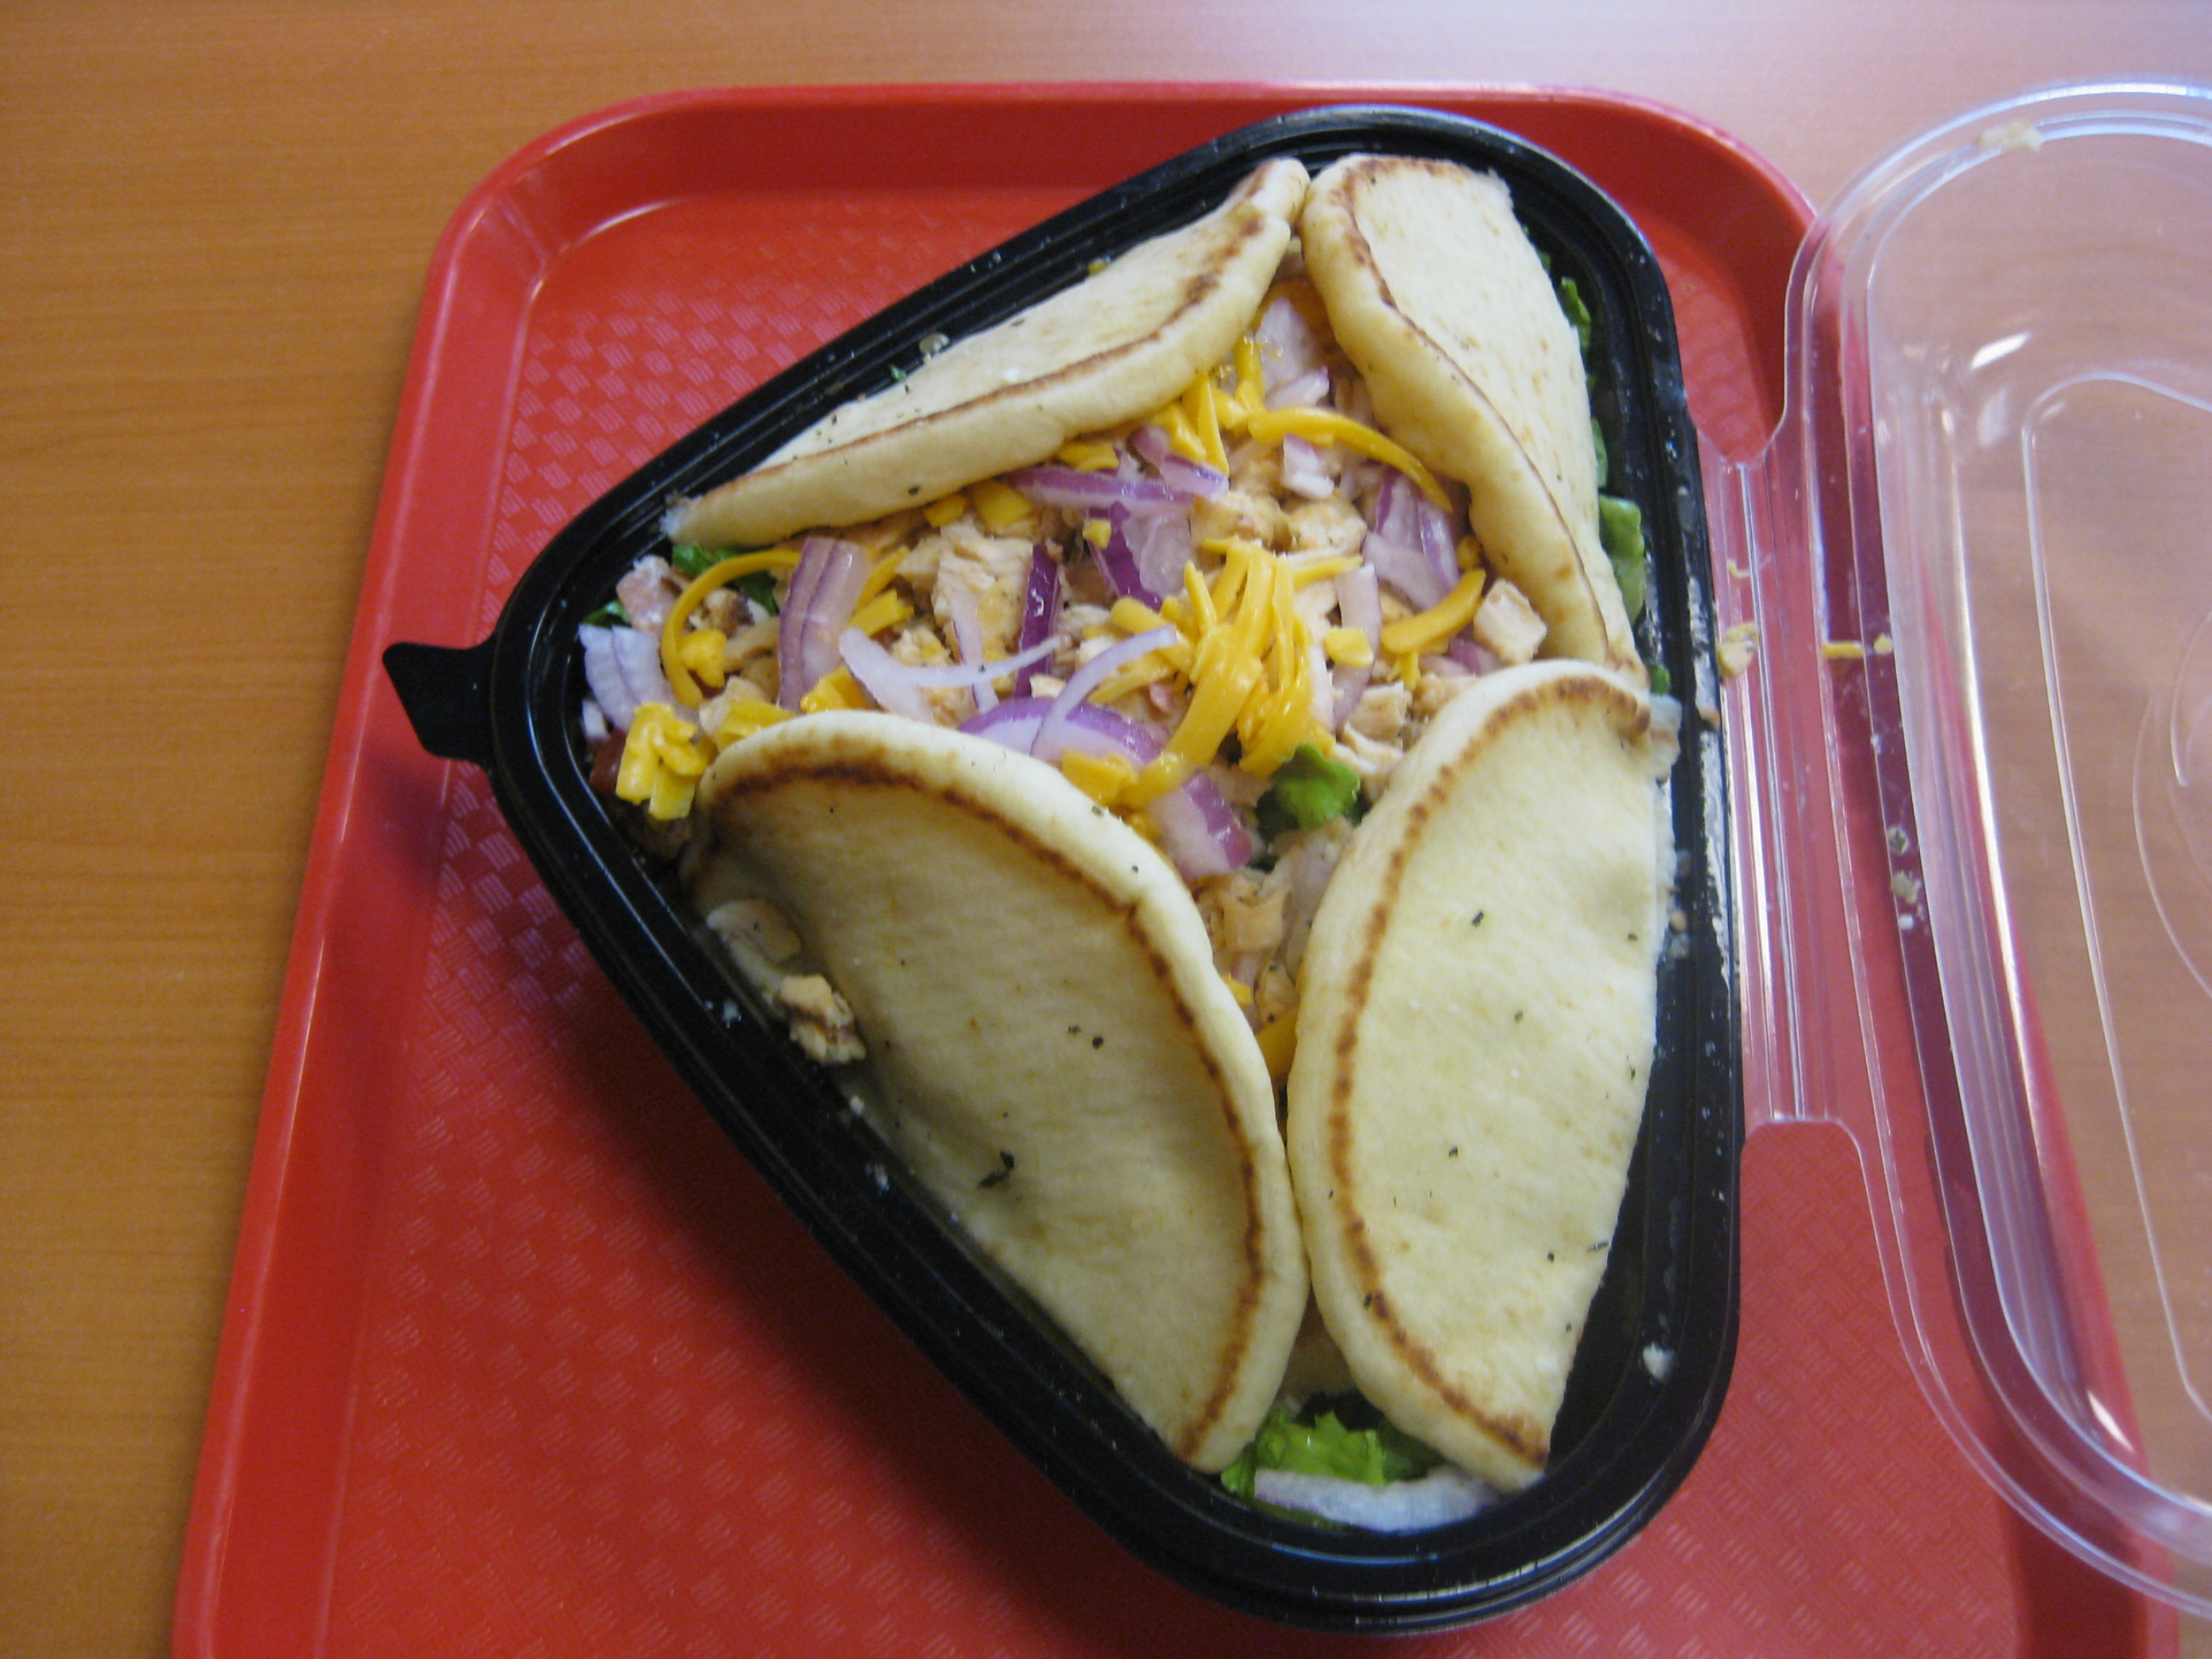burrito: (544, 91, 1860, 1531)
